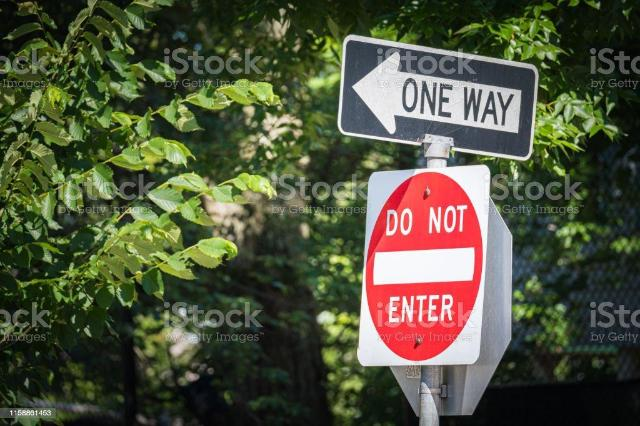B2: (366, 173, 482, 359)
